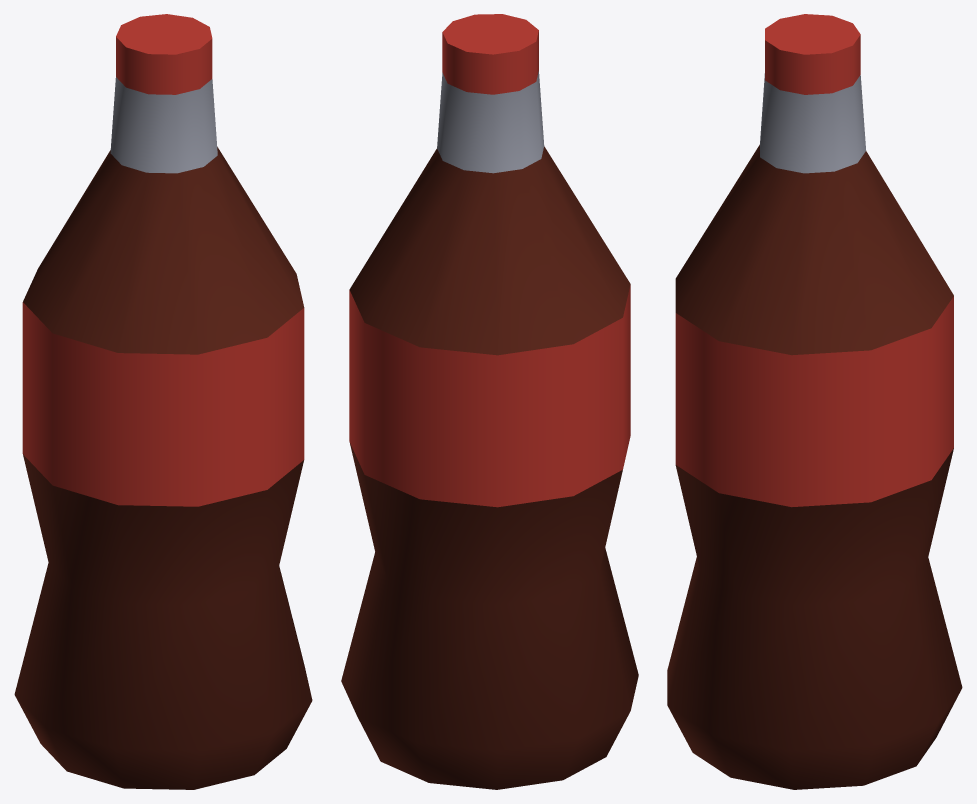
The model's file is Cola.fbx.
3 views of the same model, side by side, from view 1: azimuth 30°, elevation 25°; view 2: azimuth 150°, elevation 25°; view 3: azimuth 270°, elevation 25° (orthographic).
Parts seen in each view (by area): view 1: Cola; view 2: Cola; view 3: Cola.
Boxes of the visible parts, x1,y1,x2,y2 form: Cola: (14, 14, 312, 789); Cola: (341, 14, 638, 789); Cola: (667, 14, 962, 789).
Bounding box in the file's own units: 4.8 × 12.49 × 4.75.
